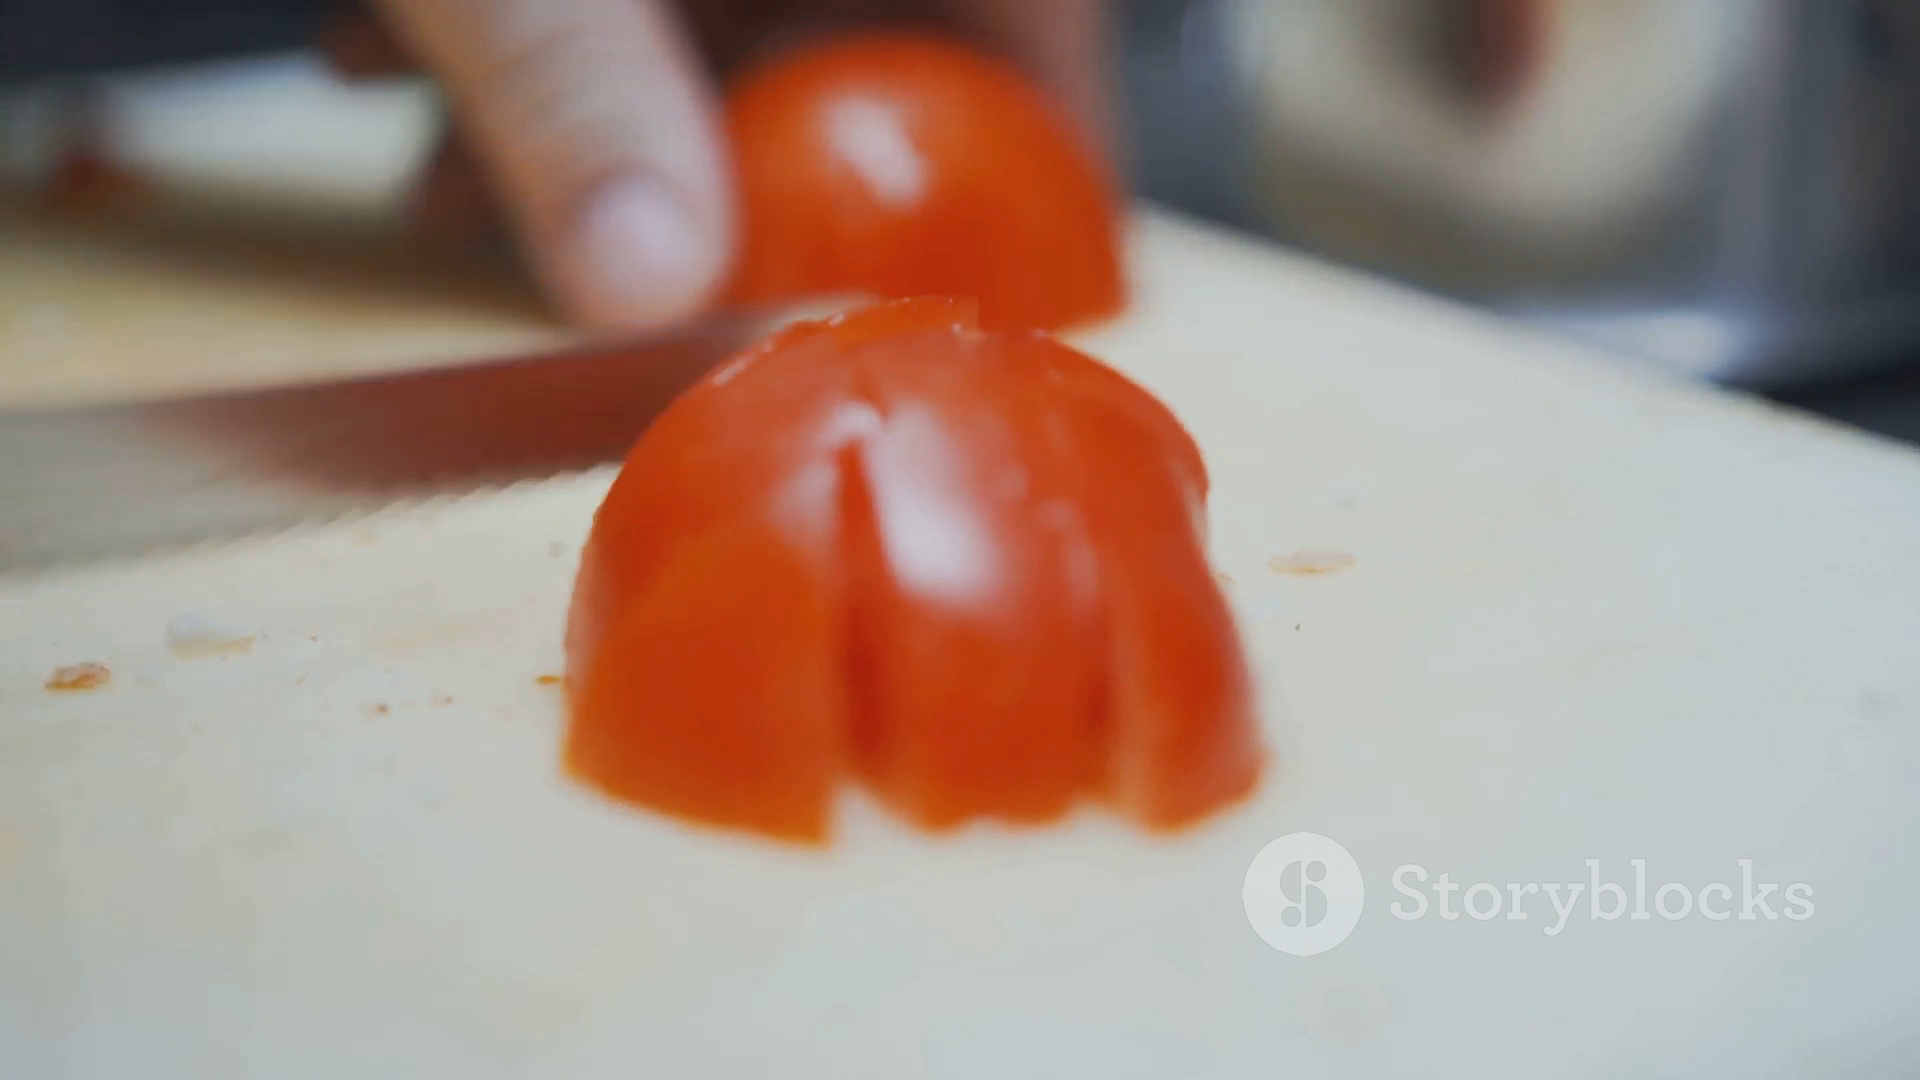cortante: (0, 295, 884, 593)
